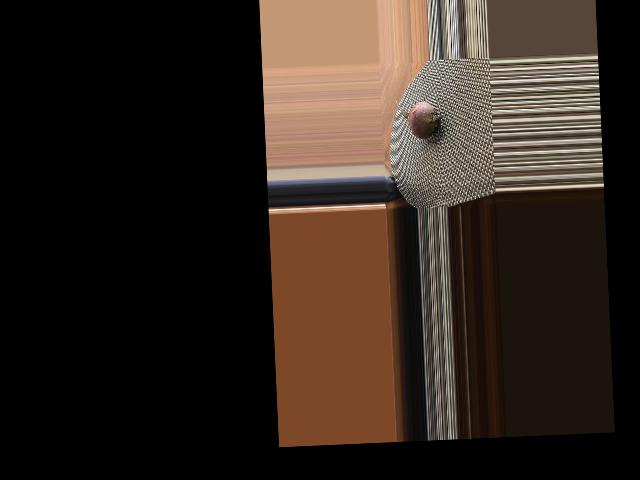beet: (396, 94, 443, 145)
